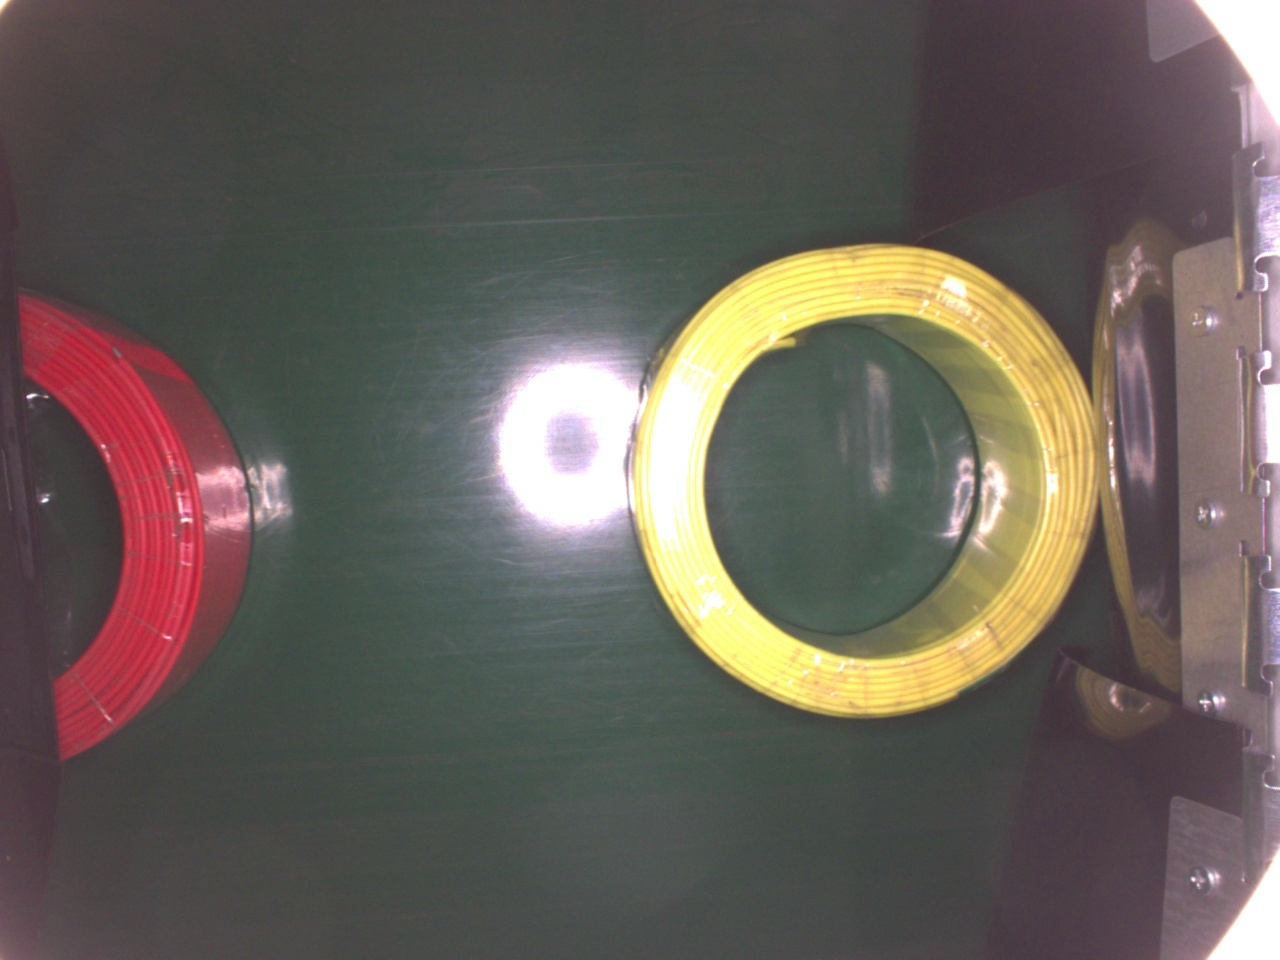red: (8, 278, 254, 761)
yellow: (624, 240, 1102, 724)
